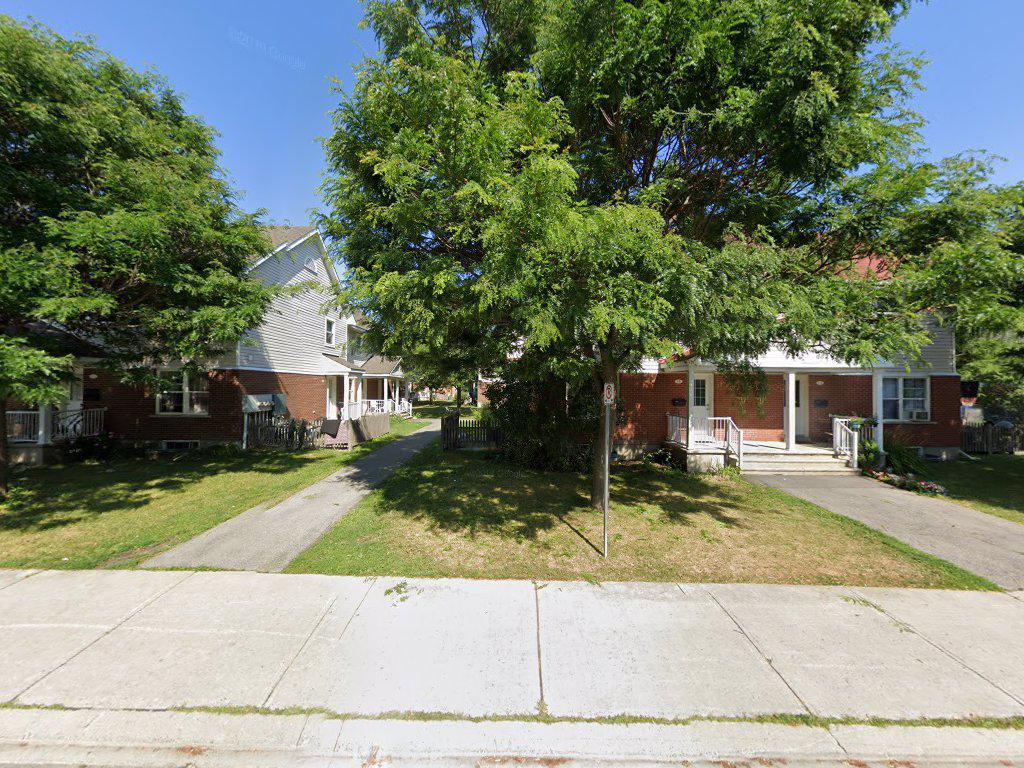trunk: (591, 335, 617, 514)
